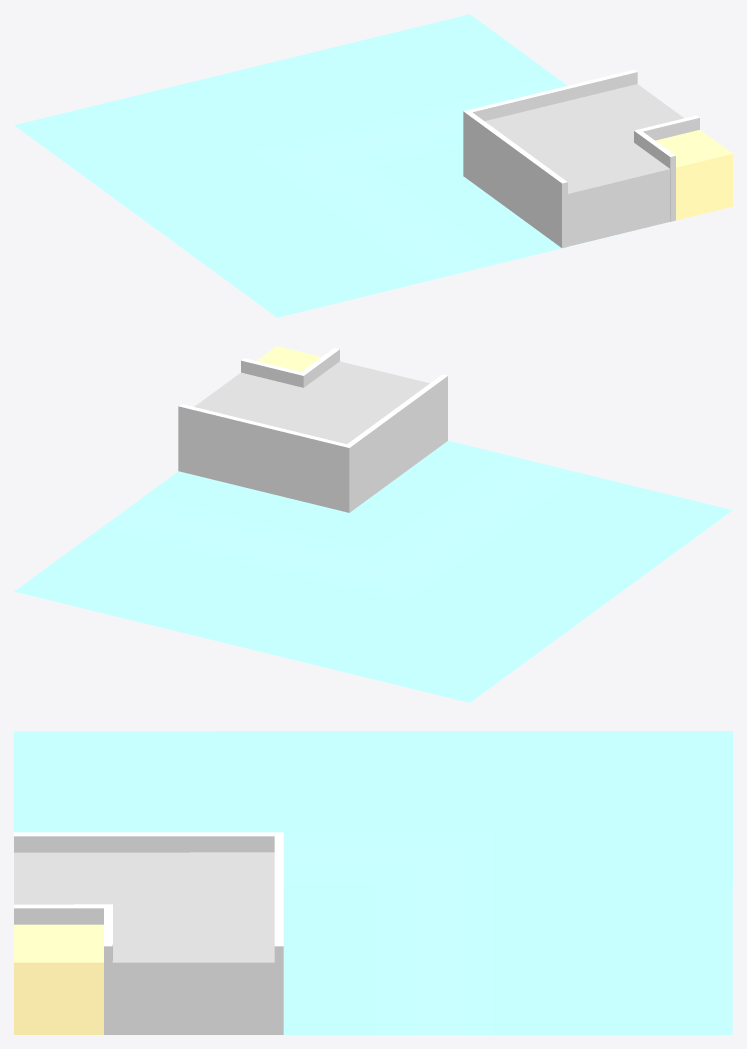
Rendered from port_tile_2x2_3.glb.
3 renders of one model, top to bottom at view 1: azimuth 30°, elevation 25°; view 2: azimuth 150°, elevation 25°; view 3: azimuth 270°, elevation 25°, orthographic. The views are drawn at different scales.
Visible parts, largest first — view 1: port_tile_2x2_3(Clone); view 2: port_tile_2x2_3(Clone); view 3: port_tile_2x2_3(Clone).
Boxes of the visible parts, x1=… form: port_tile_2x2_3(Clone): x1=14, y1=14, x2=732, y2=317; port_tile_2x2_3(Clone): x1=14, y1=346, x2=732, y2=702; port_tile_2x2_3(Clone): x1=14, y1=731, x2=732, y2=1034.
Bounding box in the file's own units: 16.01 × 2.18 × 16.01.
1 material, 1 textured.
